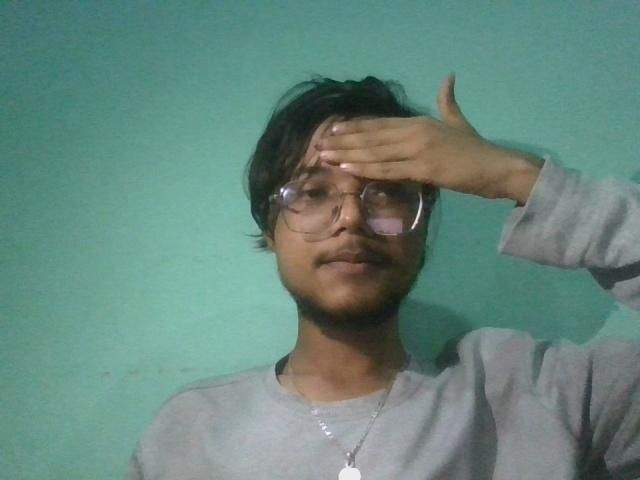forget: (302, 65, 554, 218)
